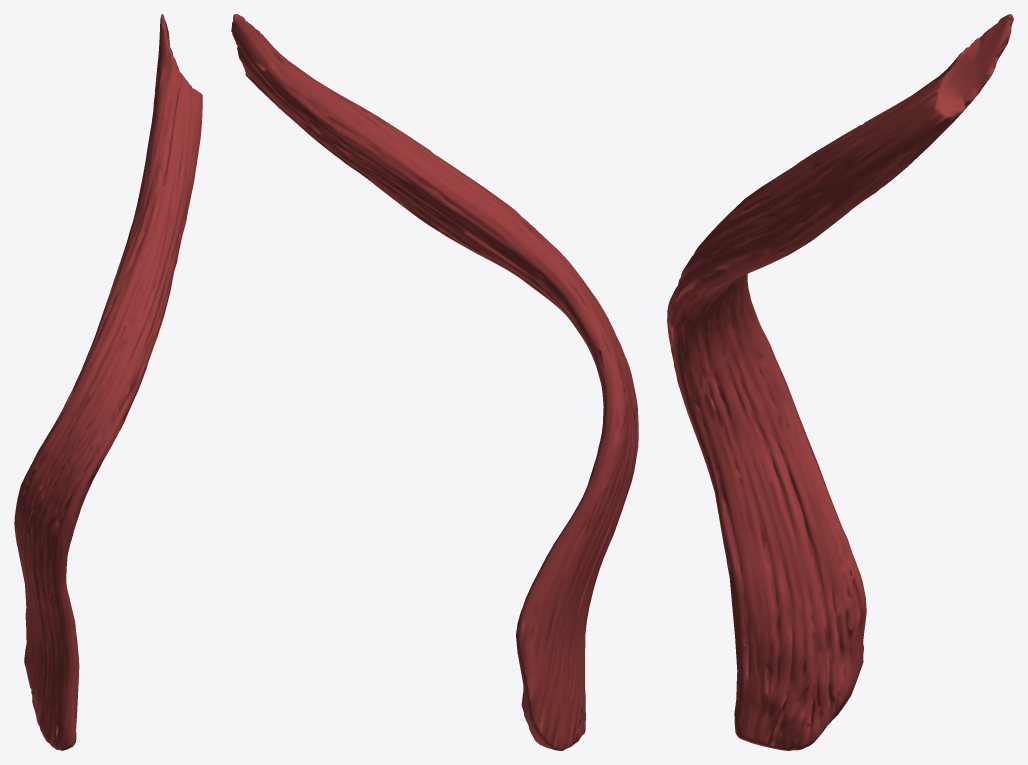
File: stylopharyngeus-muscle-l.glb
The picture shows the model from 3 angles, left to right: view 1: azimuth 30°, elevation 25°; view 2: azimuth 150°, elevation 25°; view 3: azimuth 270°, elevation 25°; orthographic projection. The views are drawn at different scales.
Parts seen in each view (by area): view 1: Stylopharyngeus muscle.l; view 2: Stylopharyngeus muscle.l; view 3: Stylopharyngeus muscle.l.
Boxes of the visible parts, bbox=[...] form: Stylopharyngeus muscle.l: bbox=[14, 14, 202, 750]; Stylopharyngeus muscle.l: bbox=[231, 14, 638, 750]; Stylopharyngeus muscle.l: bbox=[667, 14, 1013, 750].
Size of the model in its own units: 0.0277 by 0.0667 by 0.0243.
